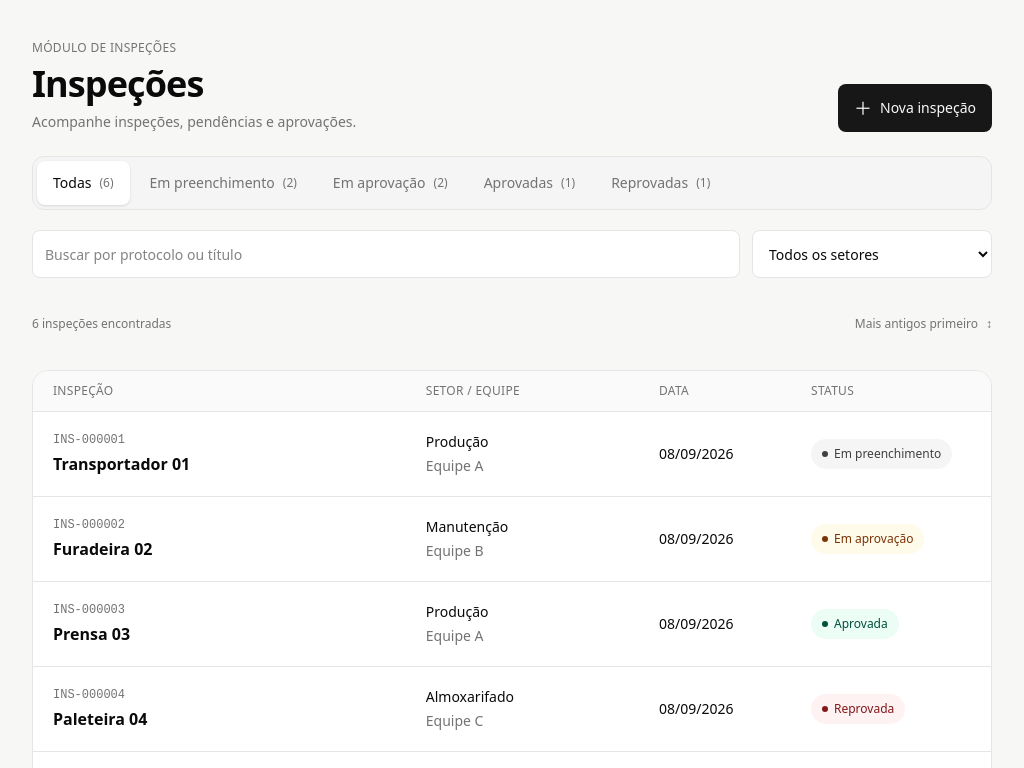
Test: listagem na interface › exibe cards completos, combina filtros e limpa o estado vazio
expect the text "INS-000001" is shown: met, box [53,433,125,447]
expect the text "Produção" is shown: met, box [426,432,489,451]
Select "Produção" in the dropdown named "Setor" at (872, 254), box [752,230,992,278]
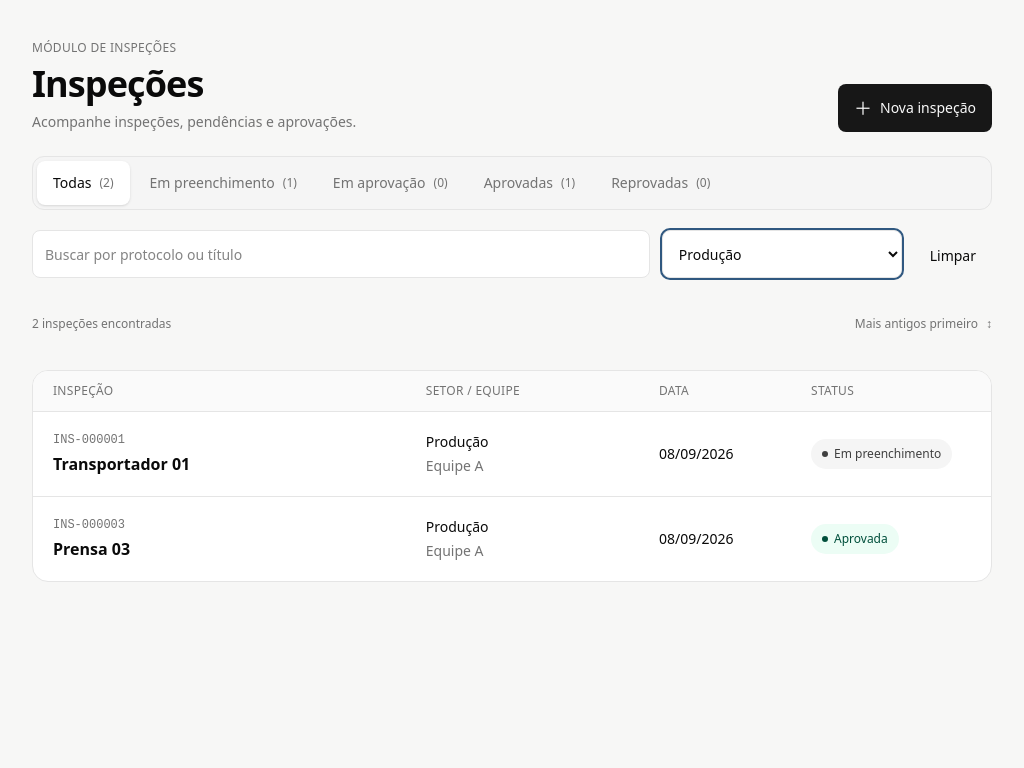
Click the button "Aprovadas (1)" at (529, 183), box [468,161,591,205]
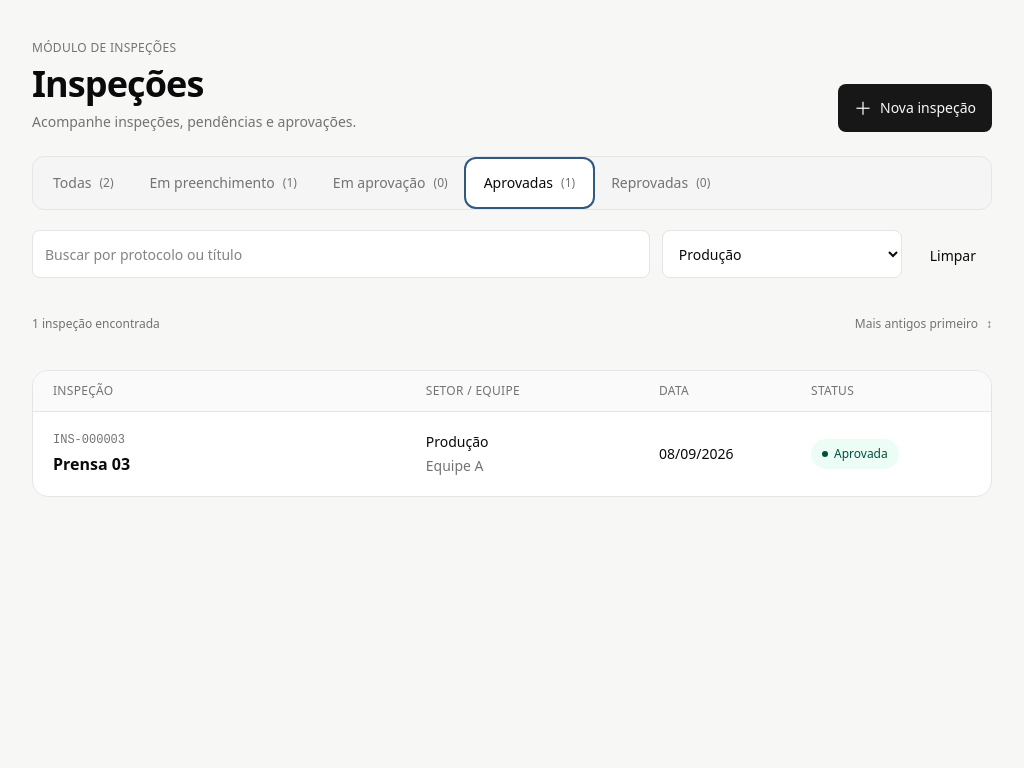
expect the button "Todas (2)" is shown: met, box [37,161,130,205]
expect the button "Em preenchimento (1)" is shown: met, box [134,161,313,205]
expect the link "Transportador 01" is gone: met
Type "inexistente" into the search field at (341, 254), box [32,230,650,278]
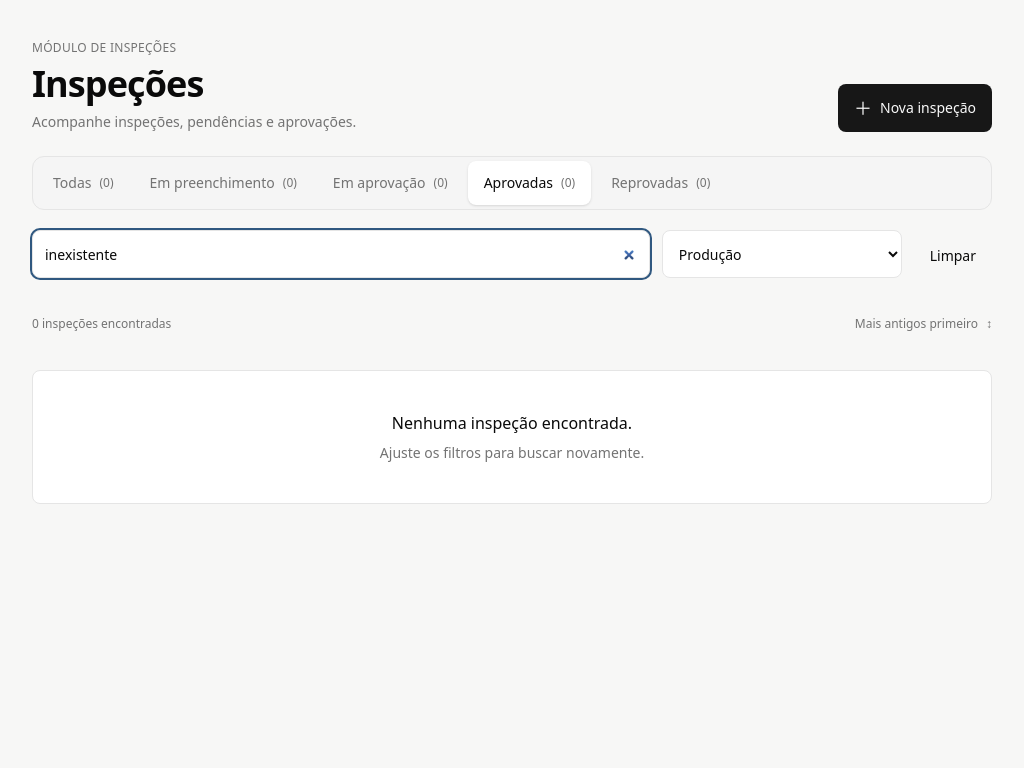
expect the text "Nenhuma inspeção encontrada." is shown: met, box [392,412,632,434]
Click the button "Limpar" at (953, 256), box [914,234,992,278]
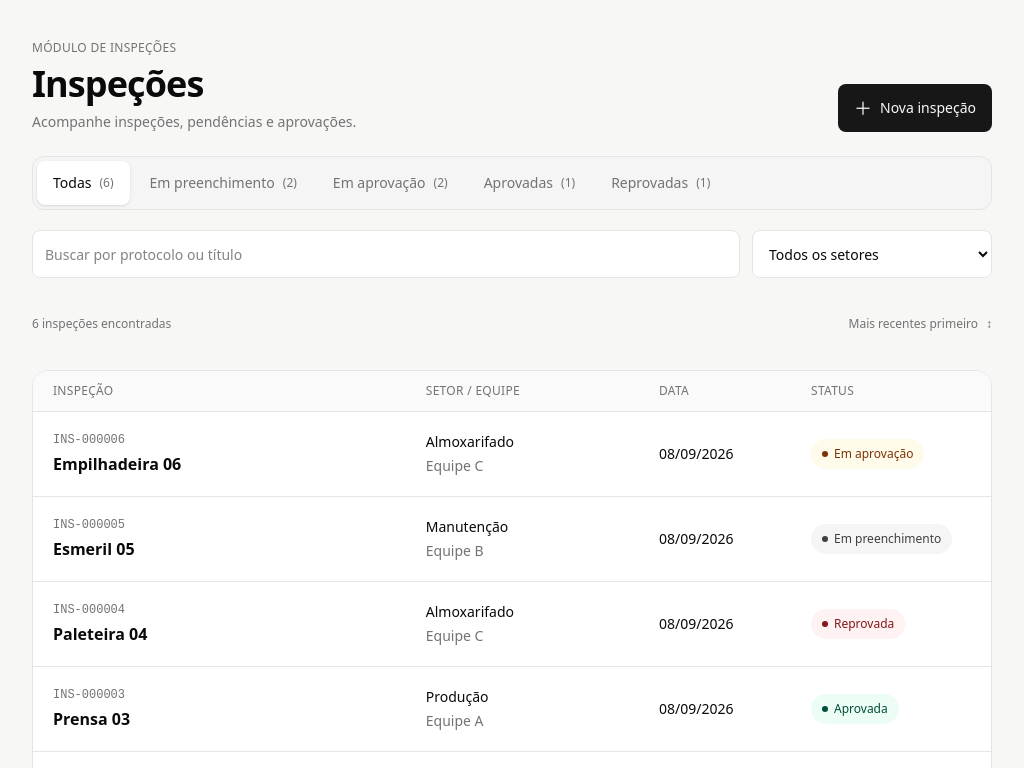
expect the button "Todas (6)" is shown: met, box [37,161,130,205]
expect the search field is empty: met, box [32,230,740,278]
expect the button with aria-label "Ordenação atual: mais recentes primeiro" is shown: met, box [848,302,992,346]
